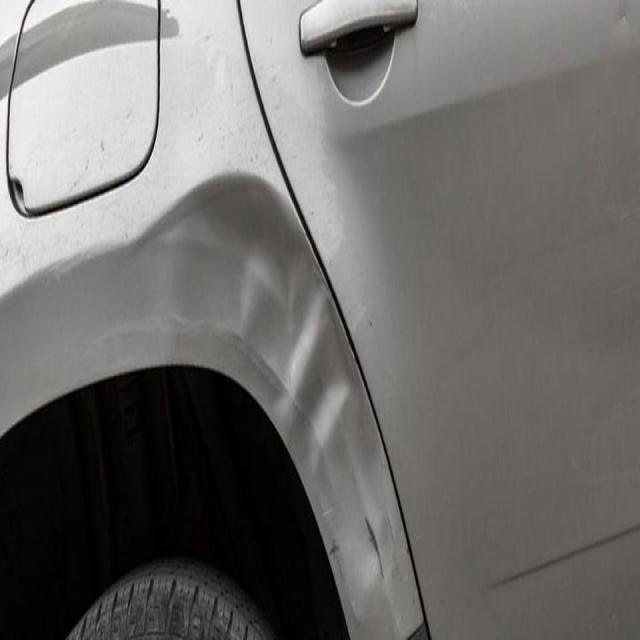dent: (190, 164, 386, 592)
